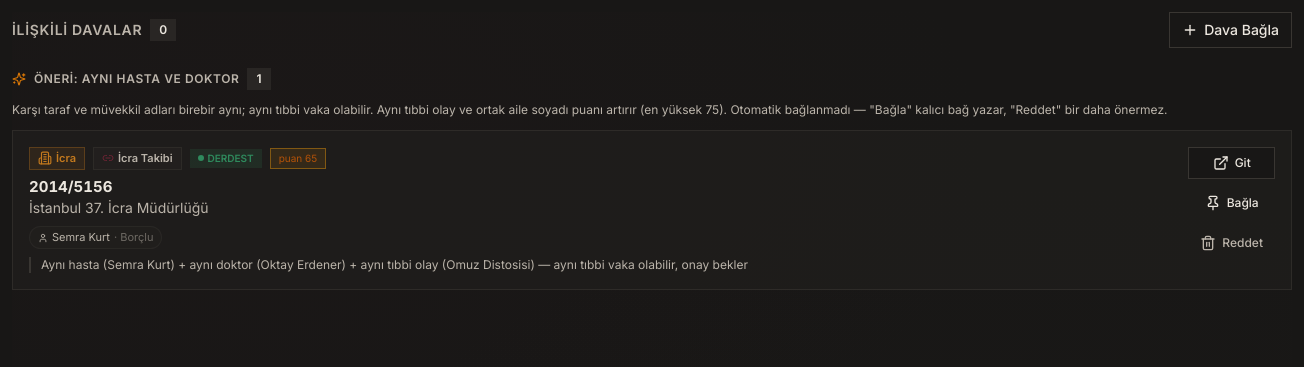
Test: RelatedCasesPanel — otomatik ilişki katmanı › Reddet öneriyi backend'e yazıyor ve listeyi yeniliyor
Step 1. Click the button "Reddet" → (1232, 243), box [1188, 227, 1275, 259]
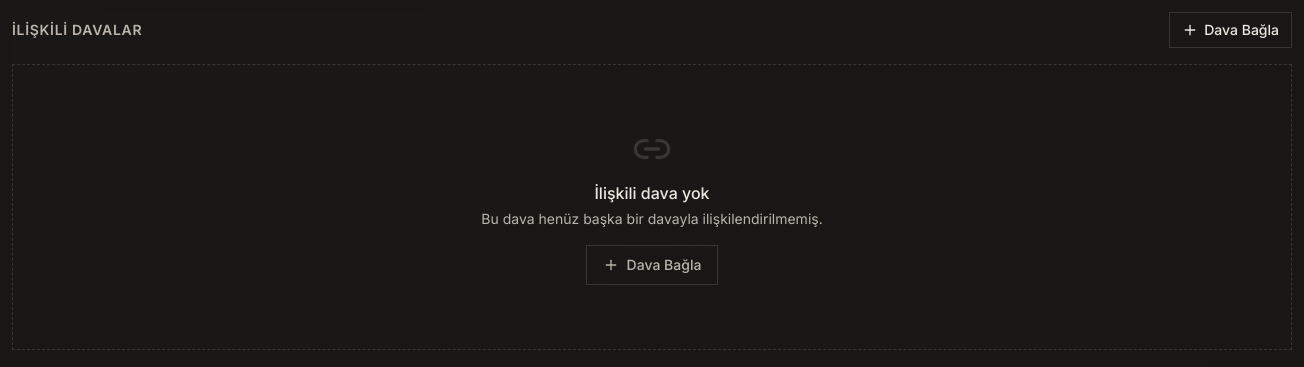
expect the element with test id "related-suggested" is gone: met
